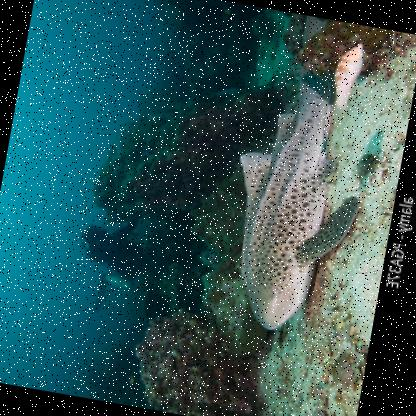zebra_shark: (186, 58, 387, 350)
